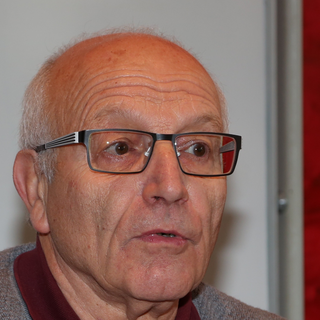eye: (102, 138, 142, 161), (176, 140, 213, 160)
